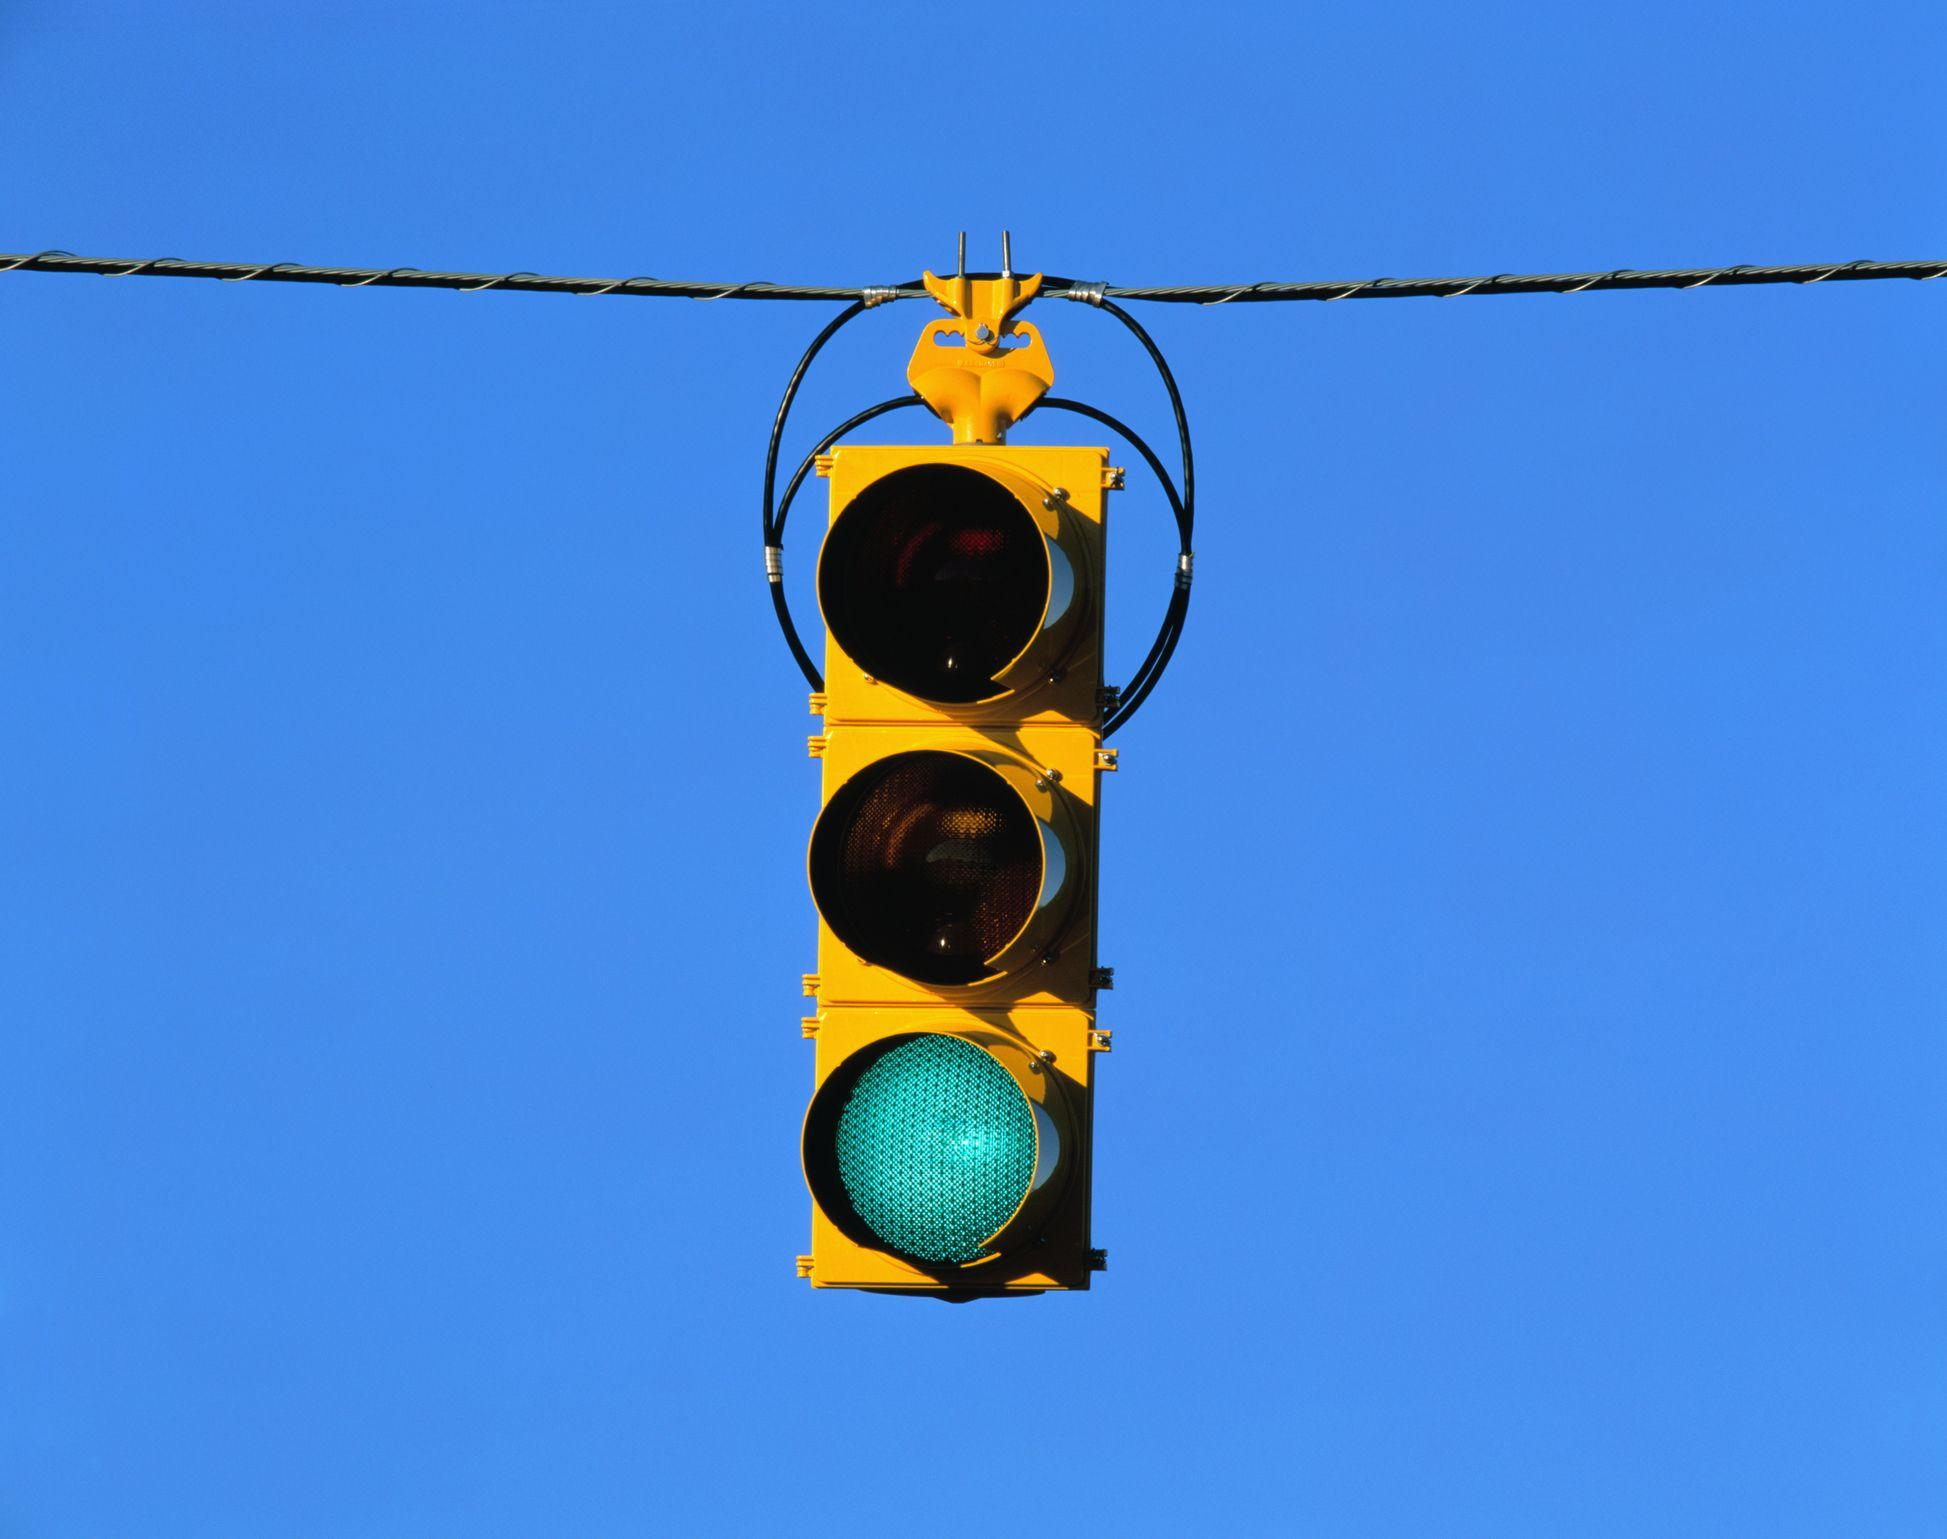traffic light: (629, 261, 1315, 1394)
